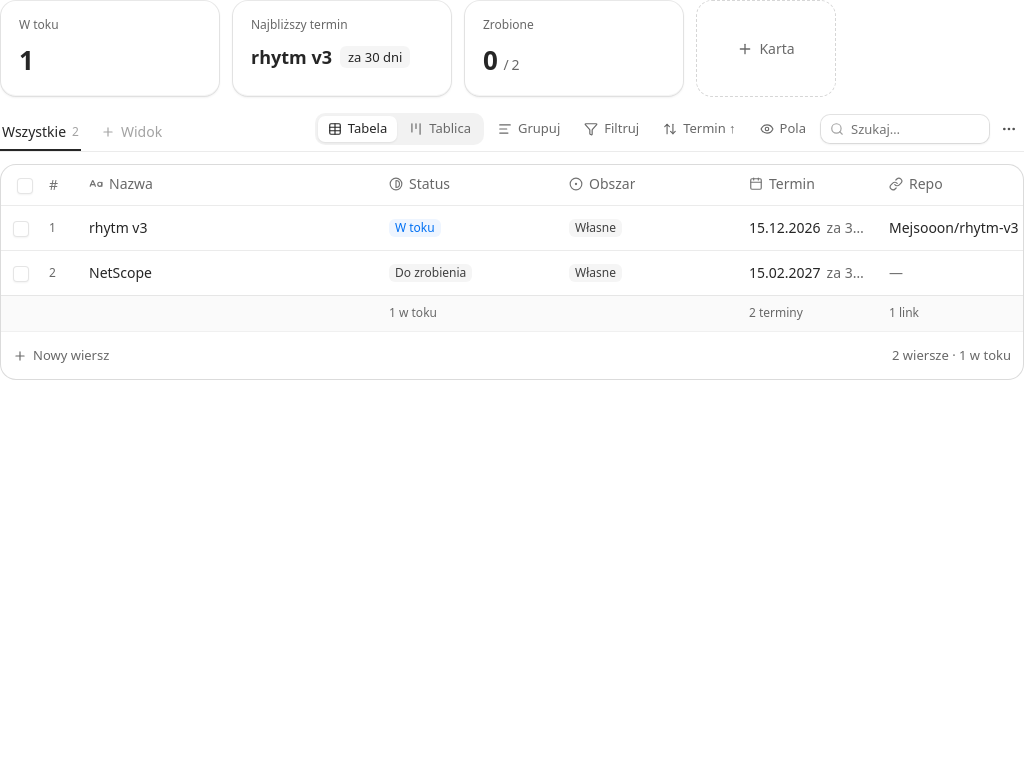
it: menu kolumny › Ukryj kolumnę: kolumna znika, „Pola” (Widoczne pola) ją przywraca
Click the button "Repo": [916, 184] box 883,171 -> 949,197
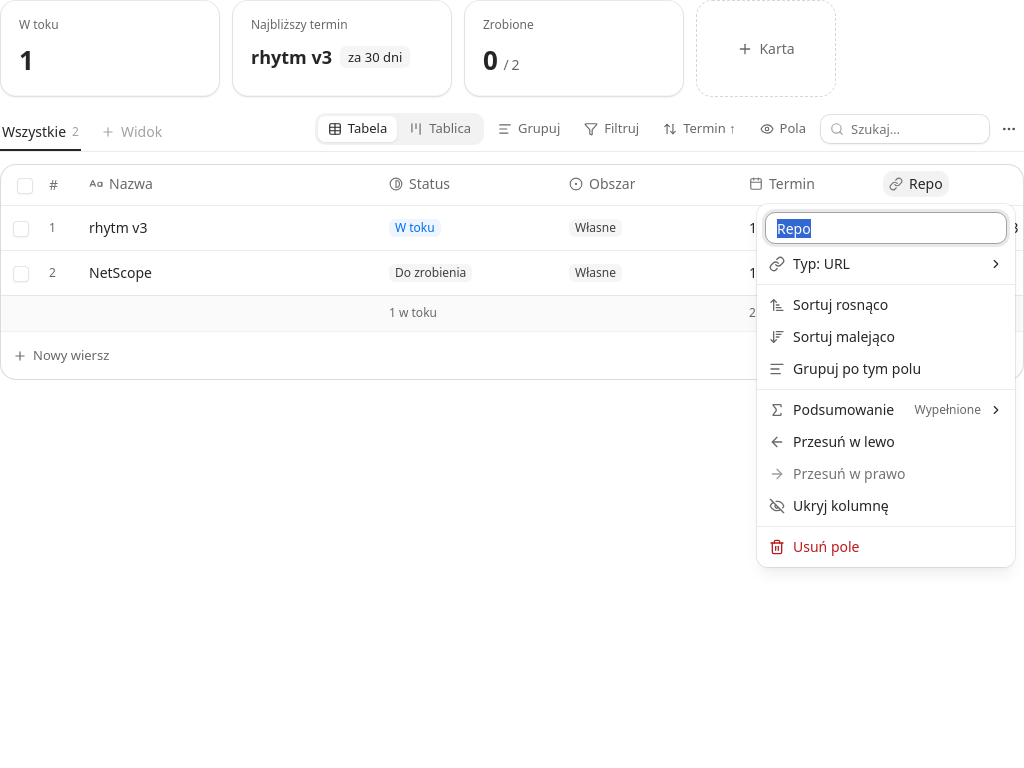
Click the menu item "Ukryj kolumnę": [886, 506] box 761,490 -> 1011,522
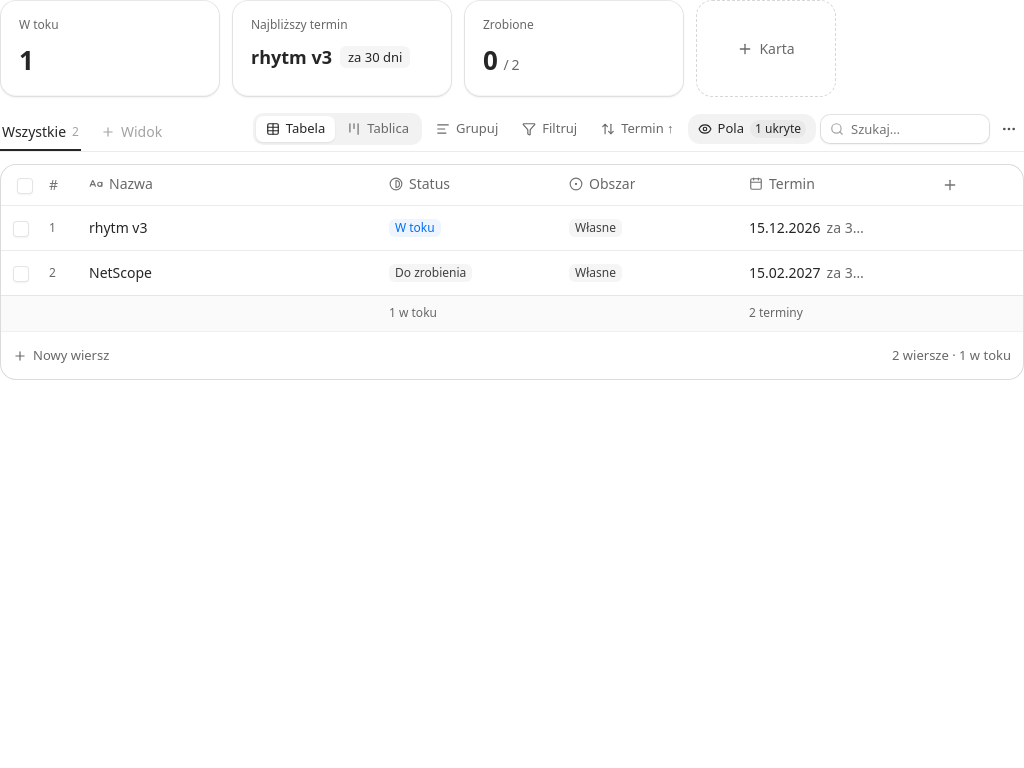
Check: the button "Repo" is gone
Click the button "Pola 1 ukryte": [752, 129] box 688,114 -> 816,144
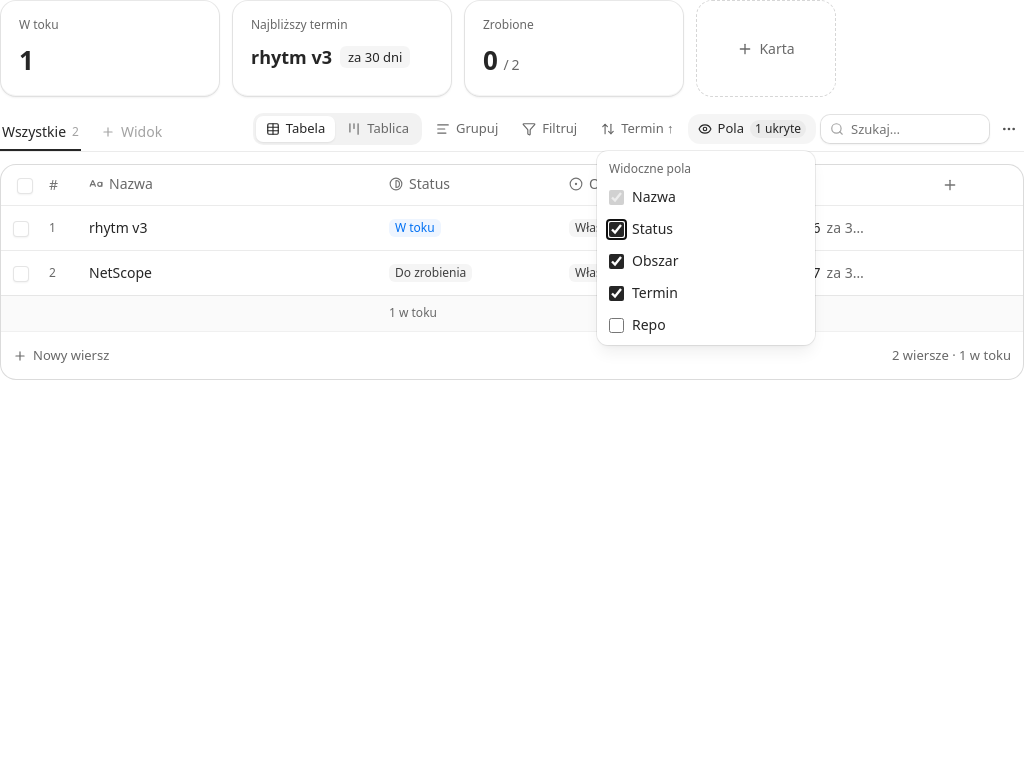
Click the checkbox labelled "Repo": [616, 325] box 609,318 -> 624,332
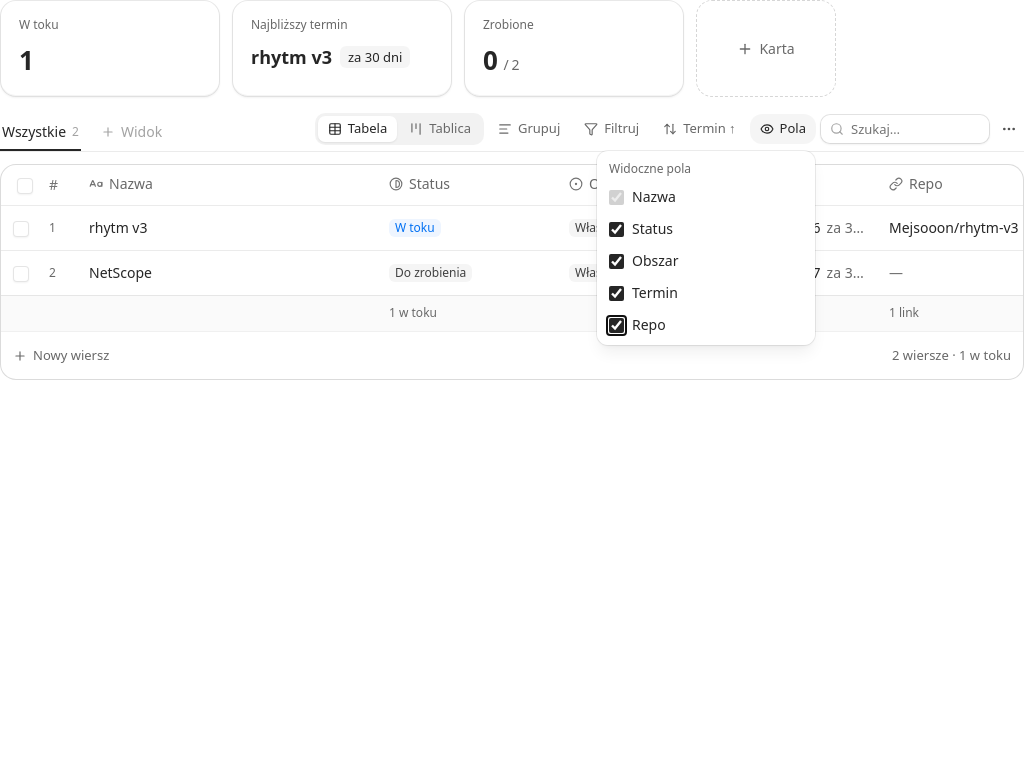
Check: the checkbox labelled "Repo" is shown, box 609,318 -> 624,332
Check: the column heading "Repo" is shown, box 877,165 -> 1023,205
